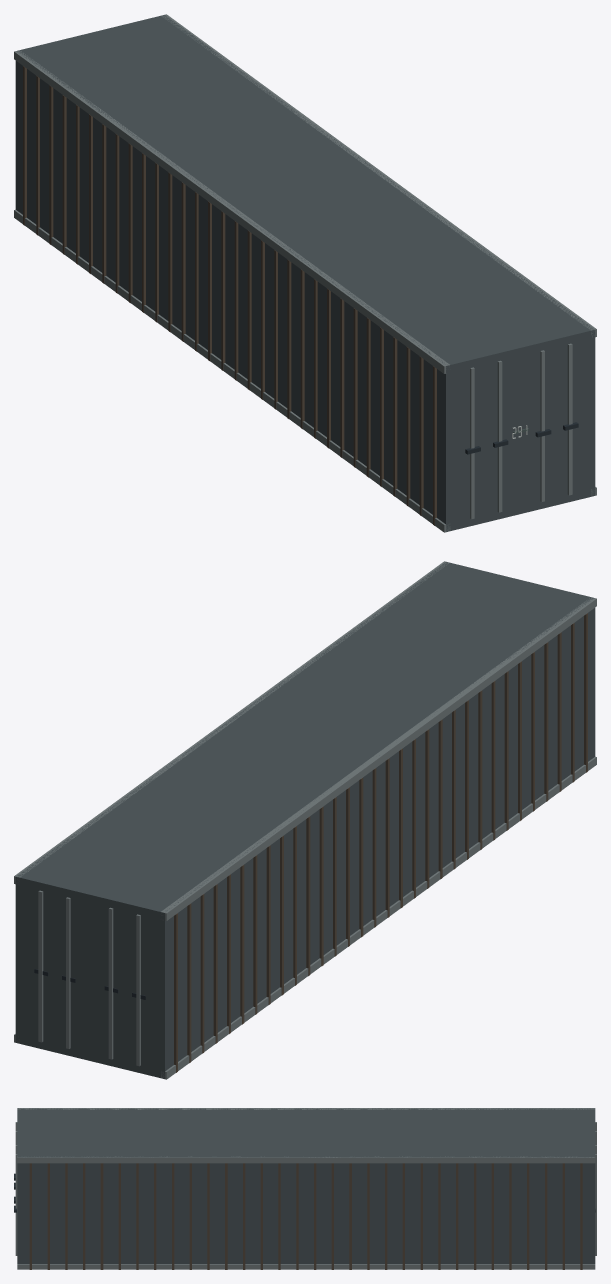
Rendered from container-3.glb.
3 renders of one model, top to bottom at view 1: azimuth 30°, elevation 25°; view 2: azimuth 150°, elevation 25°; view 3: azimuth 270°, elevation 25°, orthographic. The views are drawn at different scales.
Visible parts, largest first — view 1: container/2/KR-230-3; view 2: container/2/KR-230-3; view 3: container/2/KR-230-3.
Boxes of the visible parts, x1,y1,x2,y2 form: container/2/KR-230-3: (14,14,596,532); container/2/KR-230-3: (14,561,596,1079); container/2/KR-230-3: (14,1108,596,1269).
Bounding box in the file's own units: 2.51 × 2.6 × 12.31.
